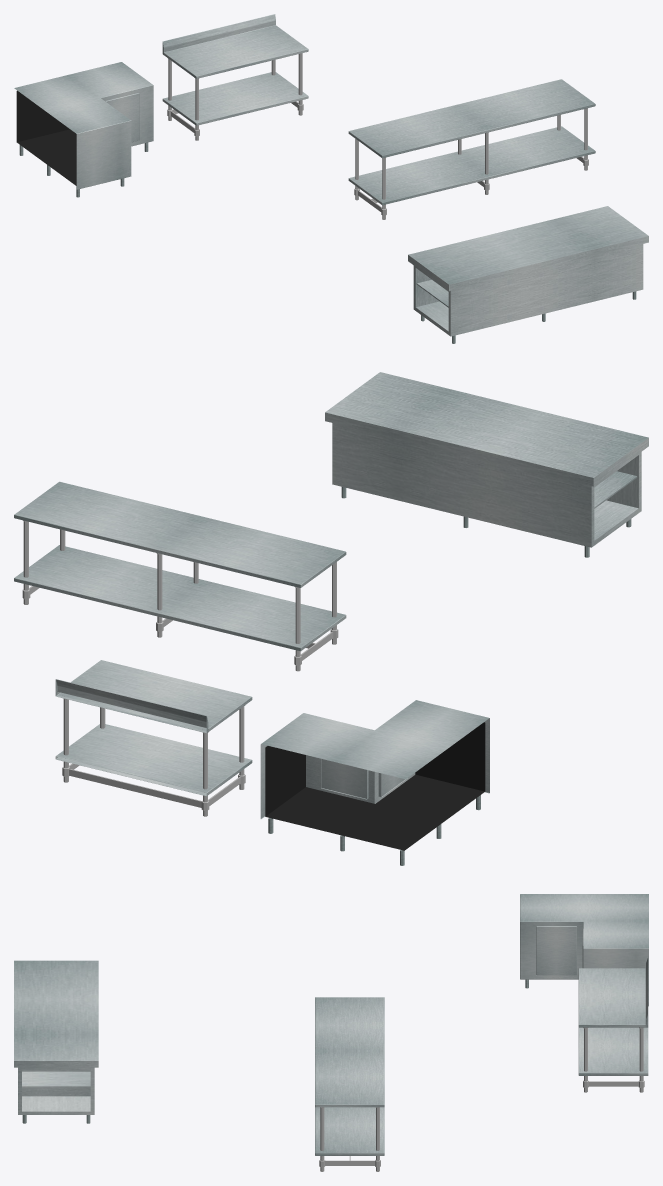
The model's file is tables.gltf.
3 renders of one model, top to bottom at view 1: azimuth 30°, elevation 25°; view 2: azimuth 150°, elevation 25°; view 3: azimuth 270°, elevation 25°, orthographic. The views are drawn at different scales.
Parts seen in each view (by area): view 1: Prep_table, prep_table2, Corner-table, Wall_table, Corner_table_doorR; view 2: Prep_table, prep_table2, Corner-table, Wall_table, Corner_table_doorR; view 3: Prep_table, prep_table2, Corner-table, Wall_table, Corner_table_doorL.
Part boxes in pixels (x1,y1,x2,y2): Prep_table: (408,206,648,343); prep_table2: (348,79,595,219); Corner-table: (14,62,153,197); Wall_table: (162,14,308,140); Corner_table_doorR: (105,93,139,142); Prep_table: (325,372,648,557); prep_table2: (14,481,346,671); Corner-table: (260,700,489,865); Wall_table: (55,660,252,816); Corner_table_doorR: (321,759,368,798); Prep_table: (14,960,98,1123); prep_table2: (315,997,384,1171); Corner-table: (520,894,648,1006); Wall_table: (578,958,648,1092); Corner_table_doorL: (536,926,576,975).
Size of the model in its own units: 7.82 by 1.38 by 9.94.
3 materials, 1 textured.
